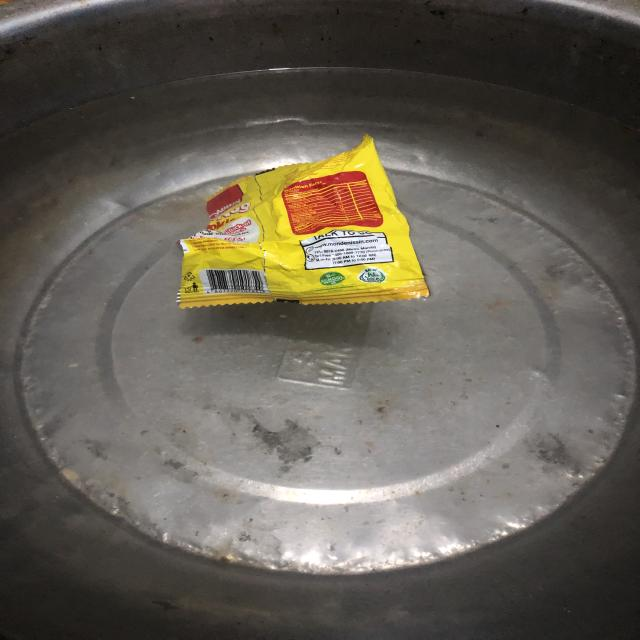Plastic Wrapper: (178, 135, 429, 308)
